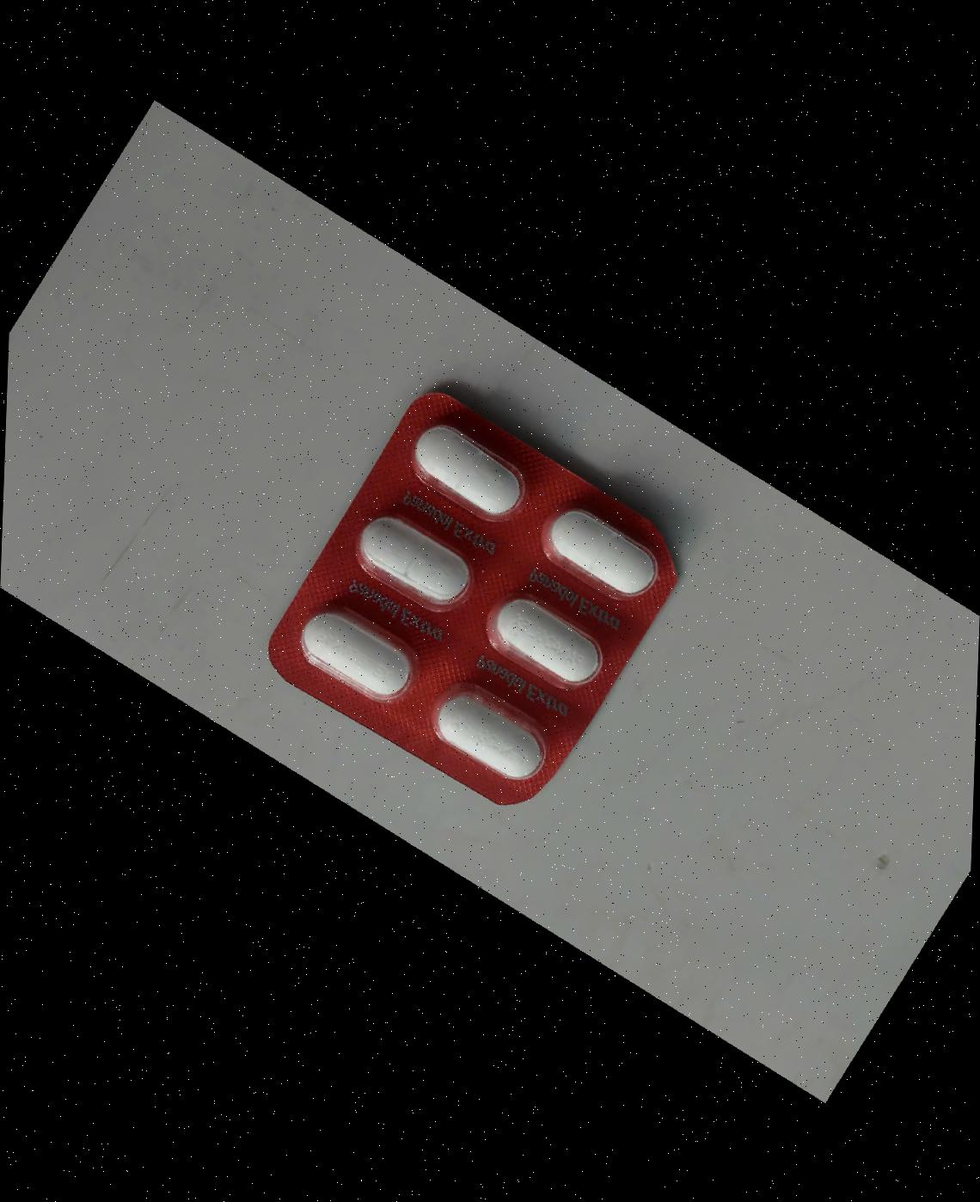Full: (414, 663, 566, 797), (391, 403, 543, 537), (282, 587, 433, 721), (341, 497, 492, 631), (526, 486, 677, 620), (472, 571, 624, 704)
